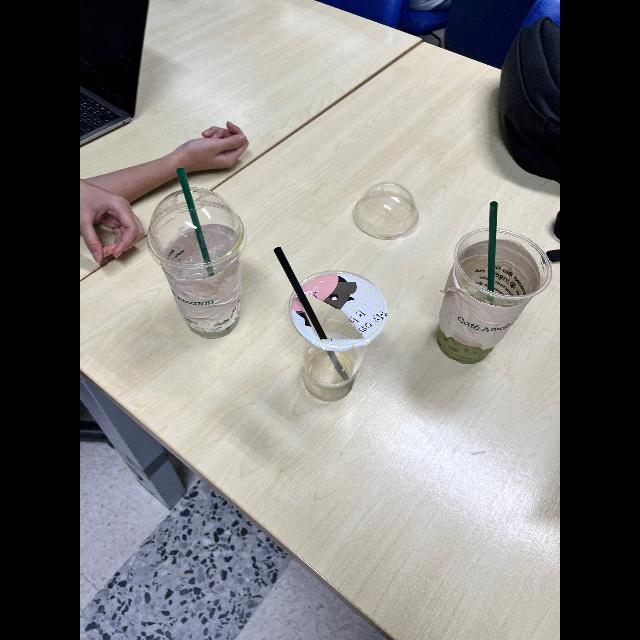plastic_cup: (435, 225, 553, 371), (148, 199, 245, 341), (288, 267, 388, 403)
plastic_cup_lid: (147, 190, 245, 264), (351, 172, 421, 240)
straw: (274, 244, 350, 381), (174, 167, 217, 278), (484, 201, 500, 305)
